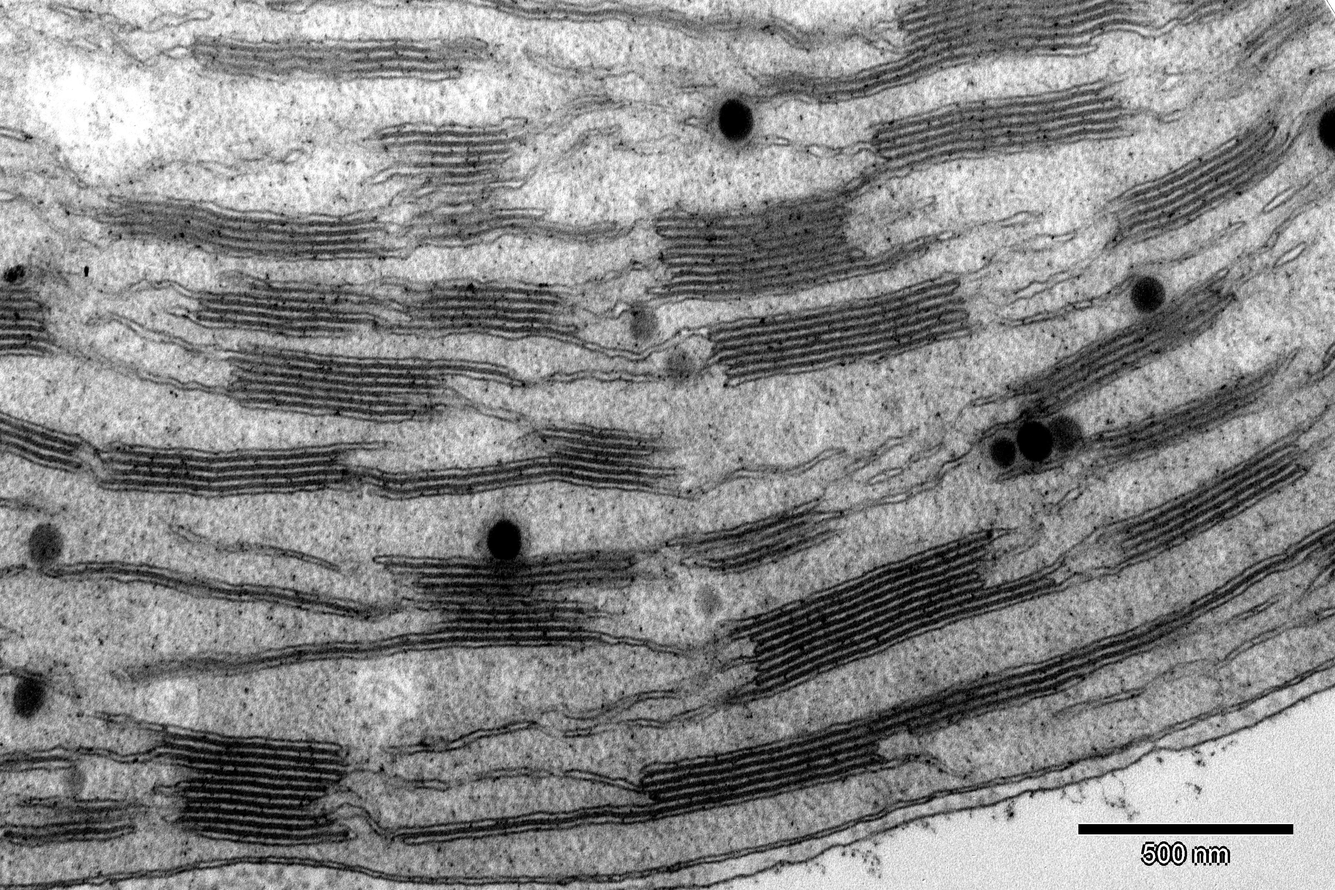granum: (743, 525, 1060, 701), (752, 0, 1159, 111), (899, 603, 1198, 738), (704, 268, 975, 390), (1023, 271, 1240, 420), (863, 72, 1140, 180), (368, 546, 641, 654), (1104, 106, 1310, 246), (634, 711, 897, 820), (649, 181, 874, 306), (1114, 432, 1312, 570), (151, 720, 353, 852), (365, 416, 662, 500), (105, 188, 399, 265), (1089, 362, 1276, 477), (228, 340, 450, 427), (189, 28, 493, 87), (96, 439, 353, 503), (368, 114, 530, 209), (397, 272, 584, 348), (191, 267, 372, 343), (676, 495, 841, 578), (1224, 0, 1322, 85), (405, 204, 549, 252), (0, 407, 87, 477), (47, 795, 141, 847), (1, 278, 53, 360), (1183, 0, 1256, 27)
